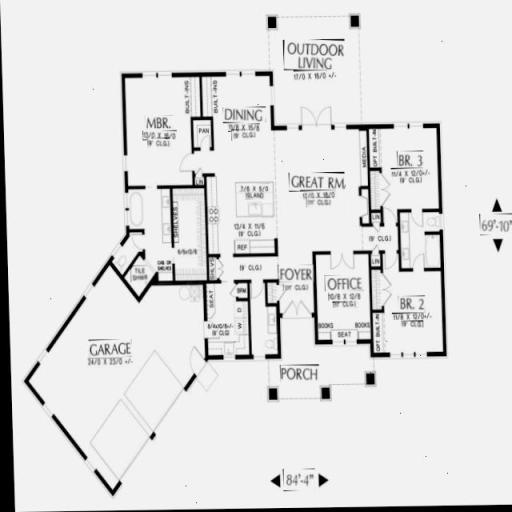Room: (313, 252, 370, 346)
bedroom: (124, 79, 205, 186), (376, 126, 445, 206), (381, 270, 442, 350)
garage: (43, 276, 209, 440)
hall: (269, 136, 369, 252)
kitchen: (210, 81, 267, 251)
porch: (253, 364, 370, 391)
